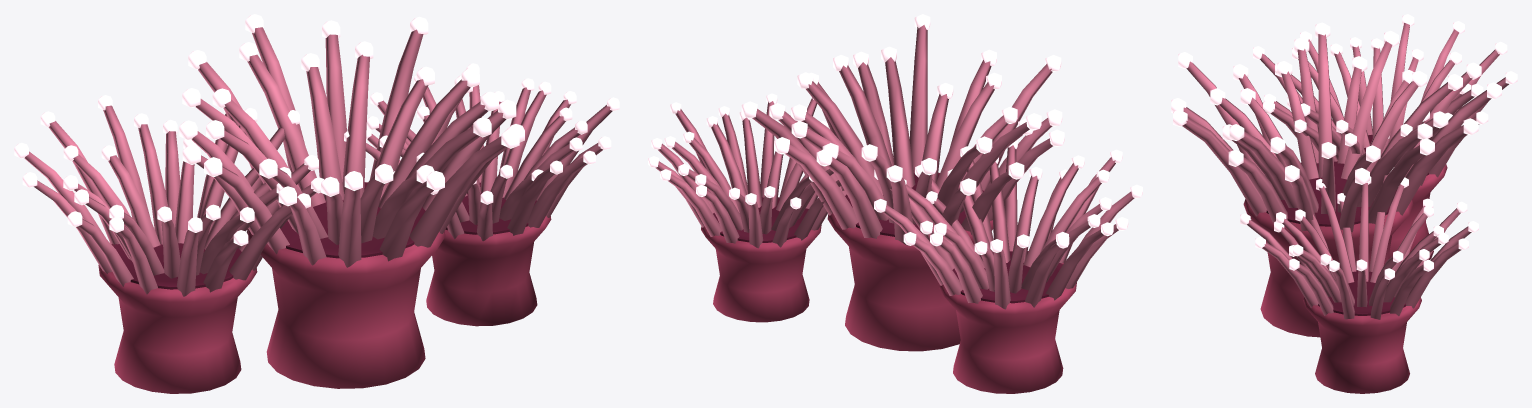
The model's file is anemone_patch.glb.
3 renders of one model, left to right at view 1: azimuth 30°, elevation 25°; view 2: azimuth 150°, elevation 25°; view 3: azimuth 270°, elevation 25°, orthographic. The views are drawn at different scales.
Parts seen in each view (by area): view 1: anemone_patch_mesh; view 2: anemone_patch_mesh; view 3: anemone_patch_mesh.
Part boxes in pixels (x1,y1,x2,y2): anemone_patch_mesh: (14,14,619,393); anemone_patch_mesh: (648,14,1142,393); anemone_patch_mesh: (1171,14,1517,393).
Size of the model in its own units: 1.6 by 0.7513 by 1.02.
